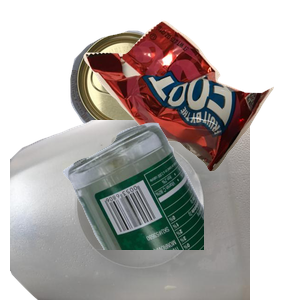glass: (60, 120, 300, 300)
metal: (68, 28, 237, 159)
plastic: (10, 120, 250, 300)
trash: (81, 18, 300, 182)
